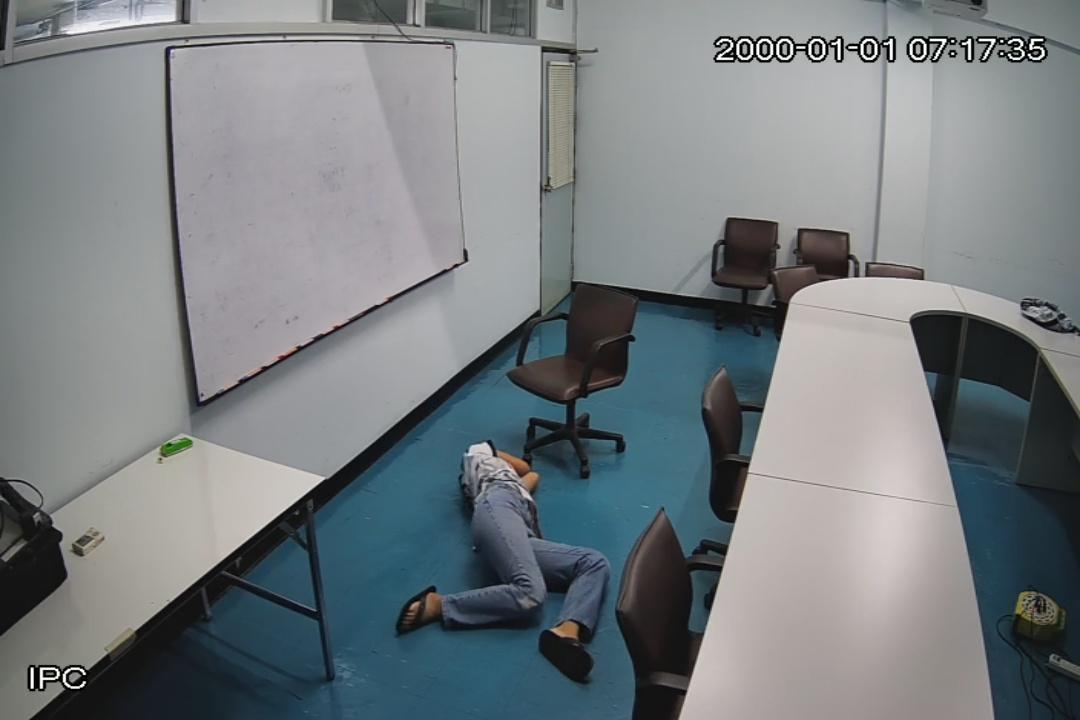fall: (403, 443, 607, 664)
